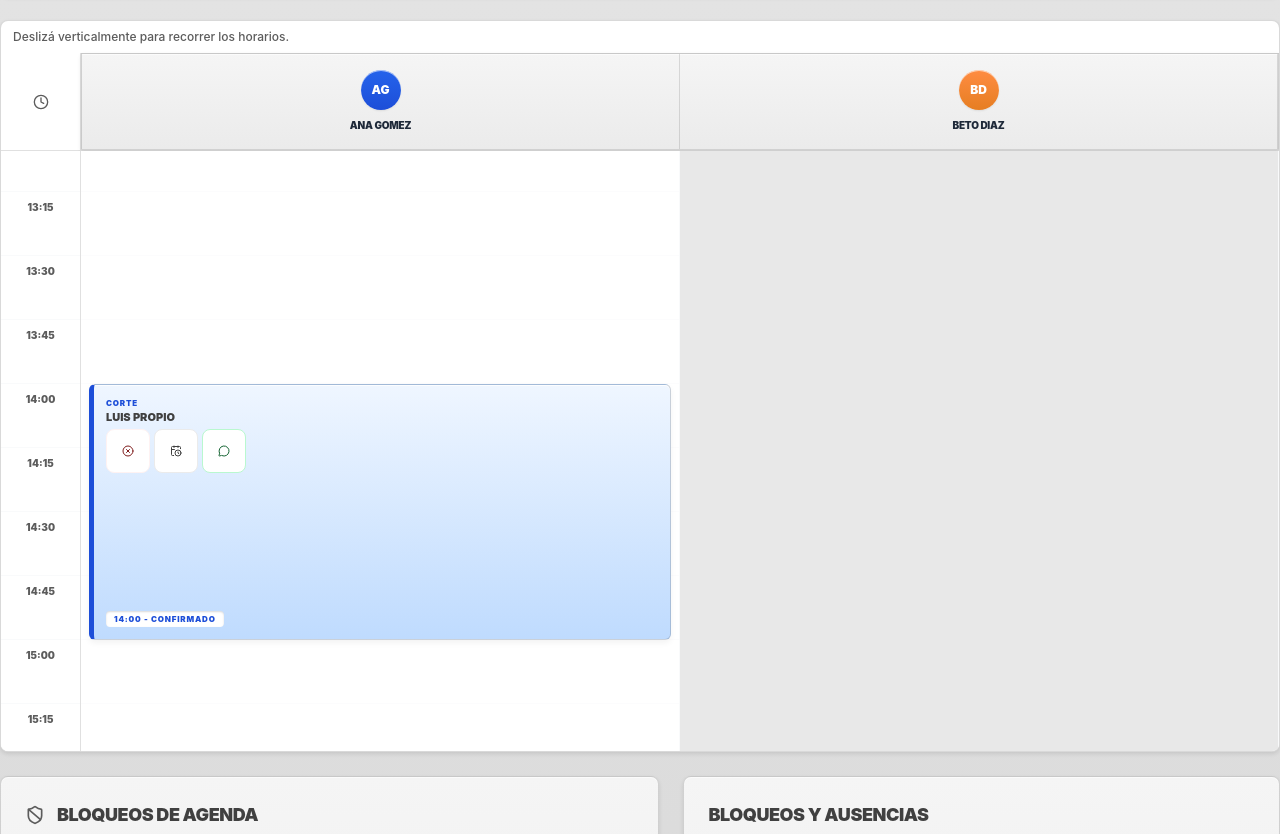
CalendarContainer - cancelar y reprogramar (FF-31) › cancelar el turno de un cliente sin email ofrece avisarle por WhatsApp
(page scrolled)
Click the button named "Cancelar turno" at (128, 451), box [106,429,150,473]
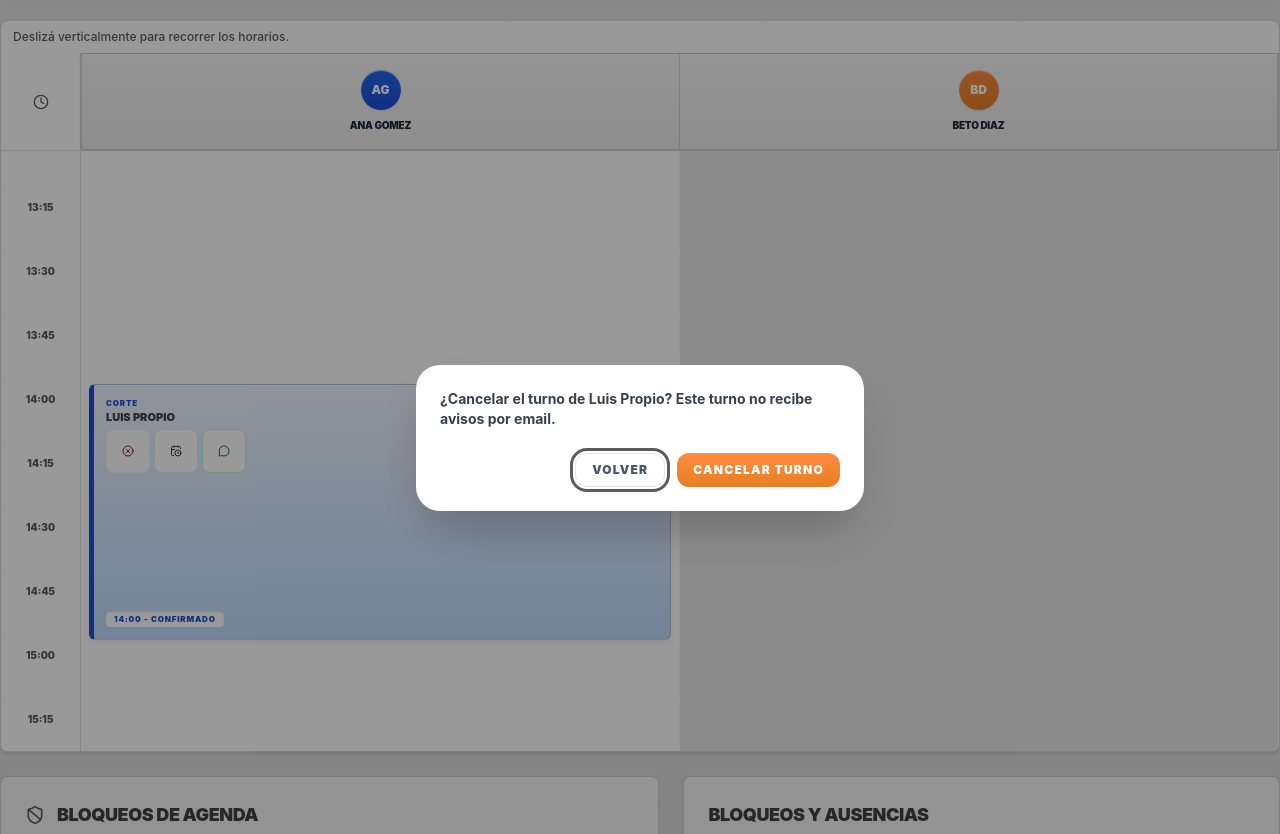
Now the text "¿Cancelar el turno de Luis Propio? Este turno no recibe avisos por email." is shown, box [440,389,840,429]
Click the button "Cancelar turno" at (759, 470), box [677,453,840,487]
(page scrolled)
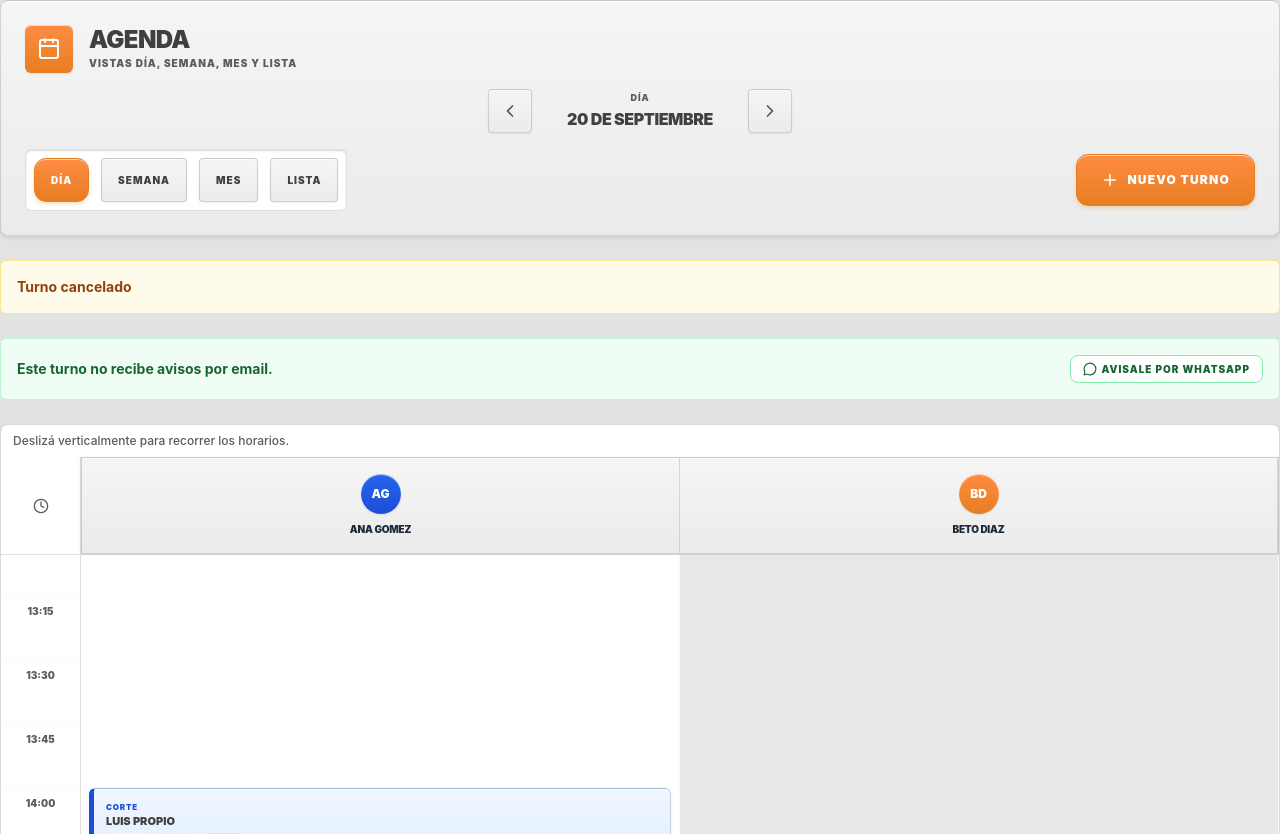
Now the text "Este turno no recibe avisos por email." is shown, box [17,360,273,377]
Now the text "Turno cancelado" is shown, box [0,260,1279,314]
